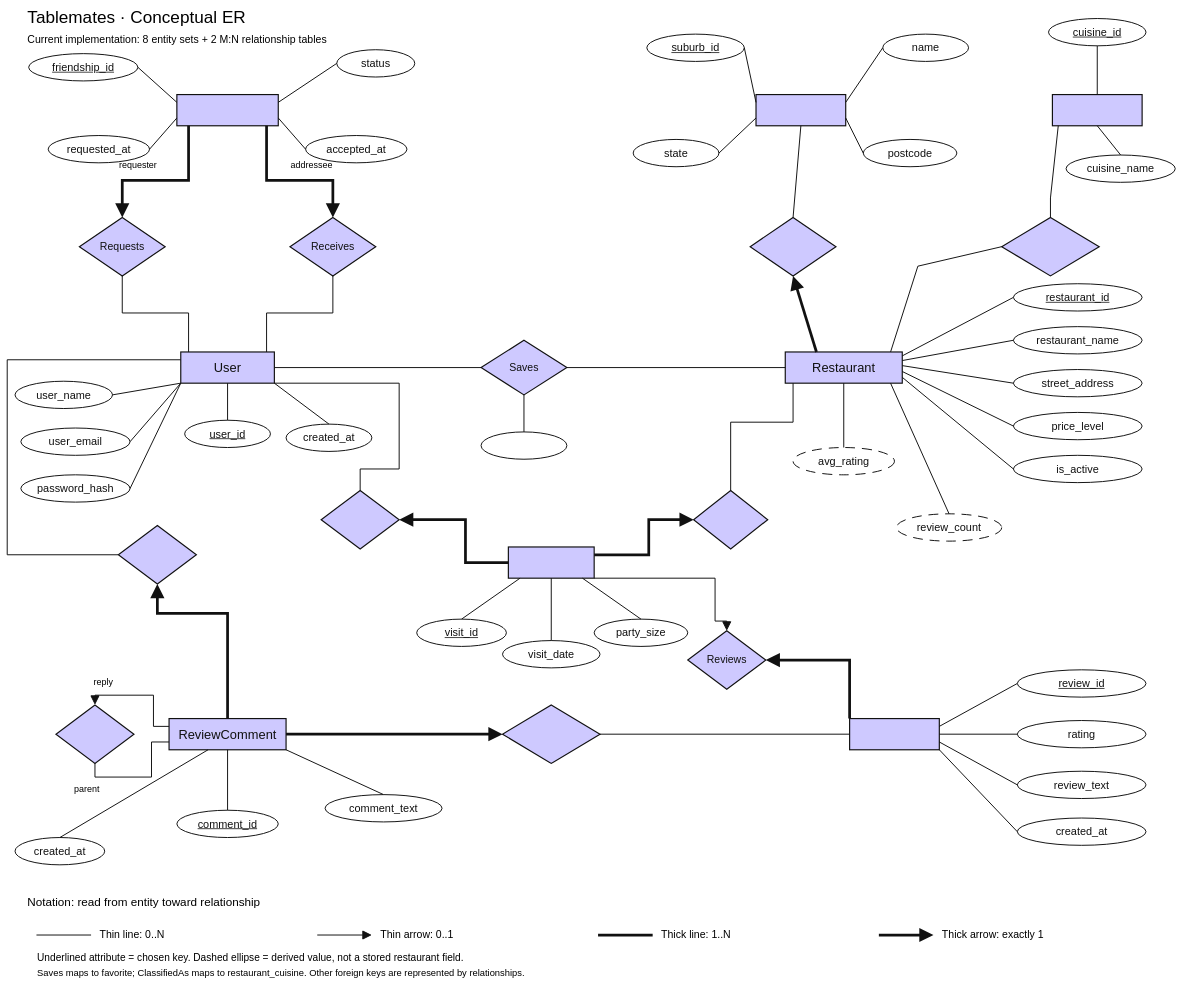
Some shapes in this 1182 by 988 pixel diagram are drawn without their labels. Each missing label, with the centre of its shape:
"added_at" goes at point (523, 445).
"At" goes at point (730, 519).
"ClassifiedAs" goes at point (1050, 246).
"Cuisine" goes at point (1097, 110).
"Friendship" goes at point (227, 110).
"HasComment" goes at point (551, 734).
"LocatedIn" goes at point (792, 246).
"Makes" goes at point (360, 519).
"RepliesTo" goes at point (94, 734).
"Review" goes at point (894, 734).
"Suburb" goes at point (800, 110).
"Visit" goes at point (551, 562).
"Writes" goes at point (157, 554).
